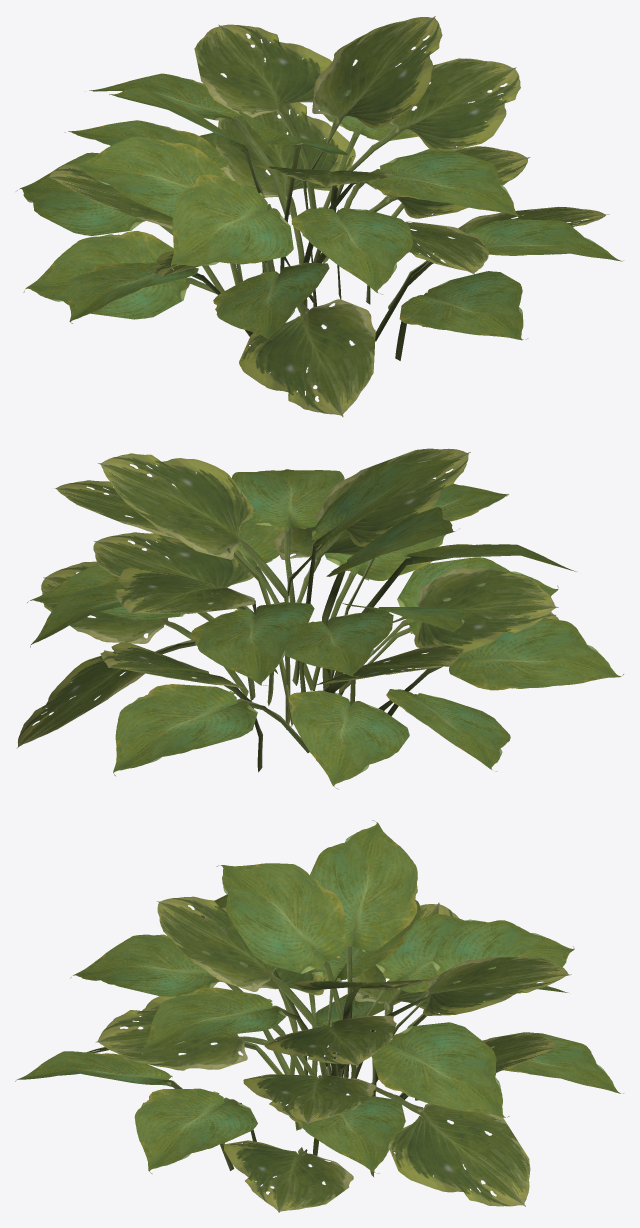
Rendered from NaturePlant01_2.FBX.
3 renders of one model, top to bottom at view 1: azimuth 30°, elevation 25°; view 2: azimuth 150°, elevation 25°; view 3: azimuth 270°, elevation 25°, orthographic. The views are drawn at different scales.
Visible parts, largest first — view 1: NaturePlant02; view 2: NaturePlant02; view 3: NaturePlant02.
Part boxes in pixels (<box>): NaturePlant02: <box>15,16,624,416</box>; NaturePlant02: <box>16,448,624,789</box>; NaturePlant02: <box>15,820,624,1212</box>.
Bounding box in the file's own units: 84.99 × 41.55 × 85.92.
Materials: 1 (1 with a texture image).
